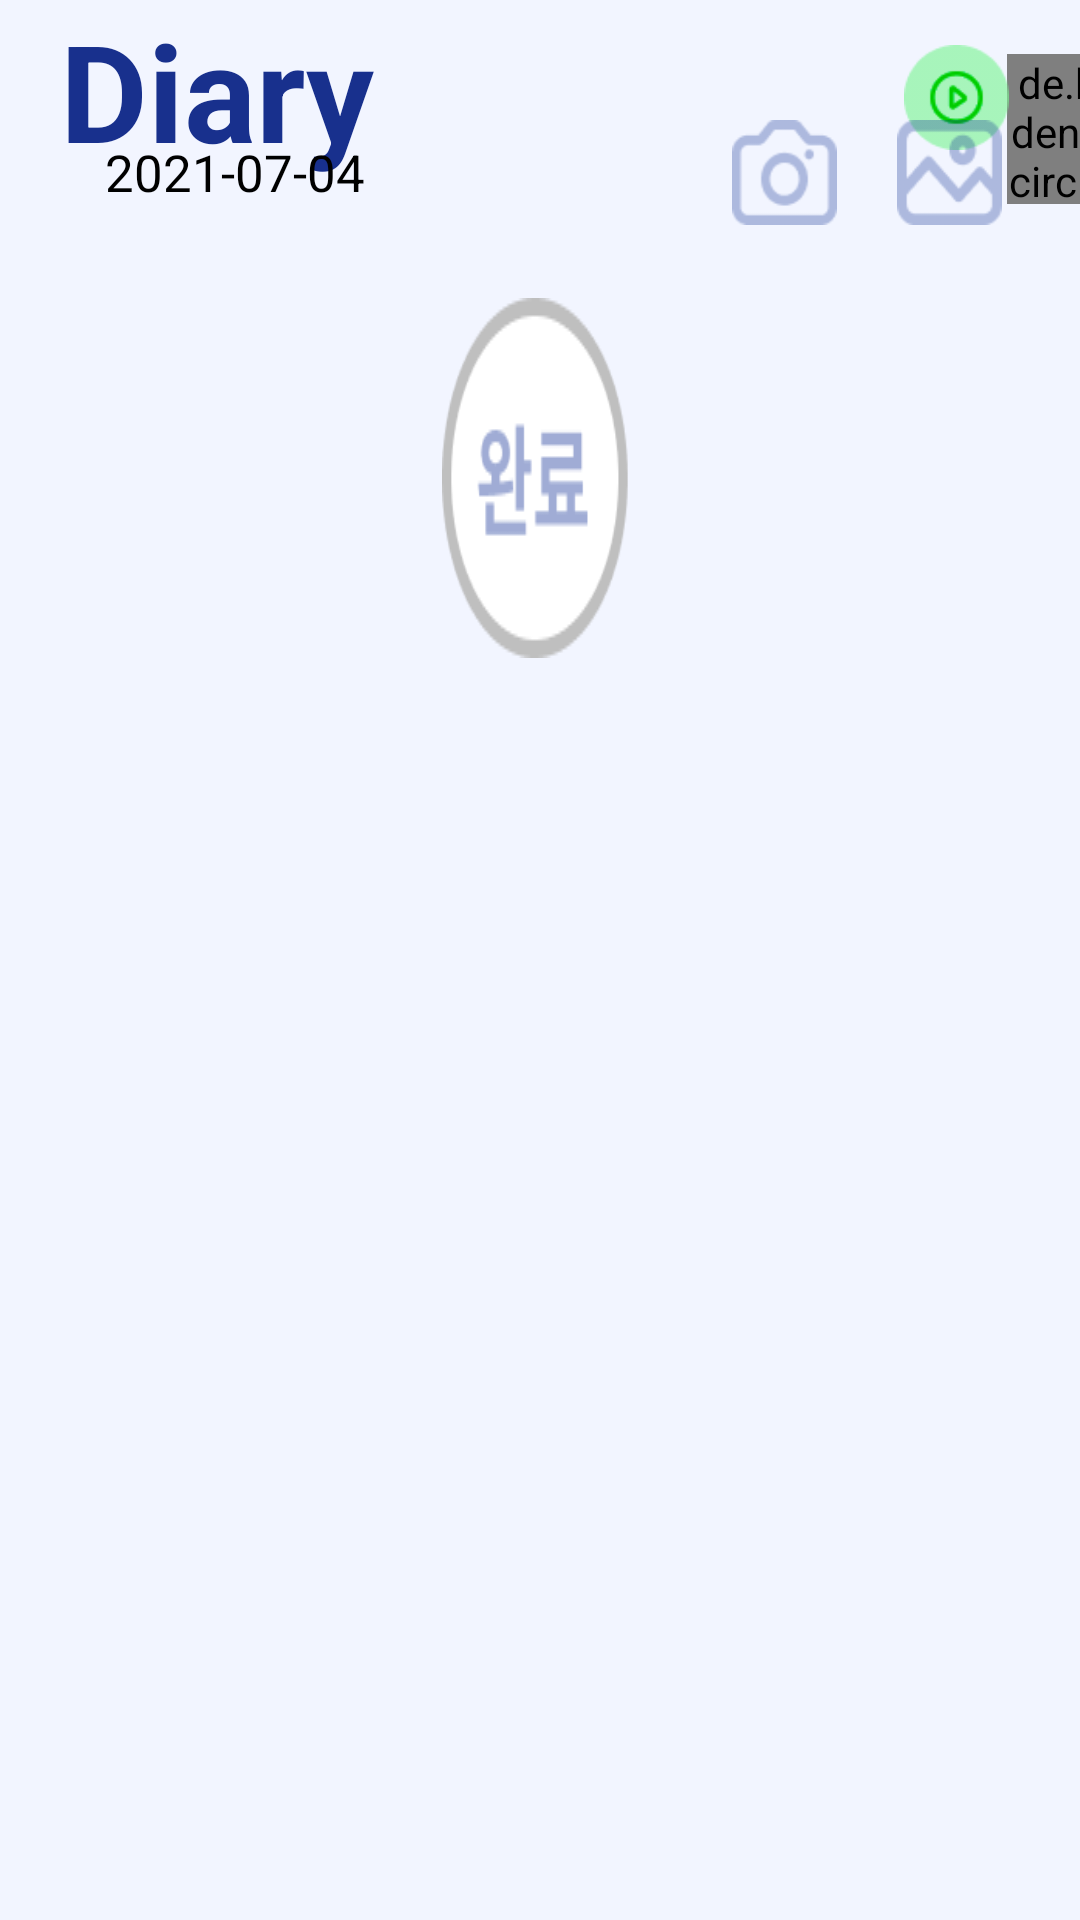

Icon click points for this 1080 x 1920 phone screenshot, format [x,y]:
camera: [784,172]
gallery: [965,172]
